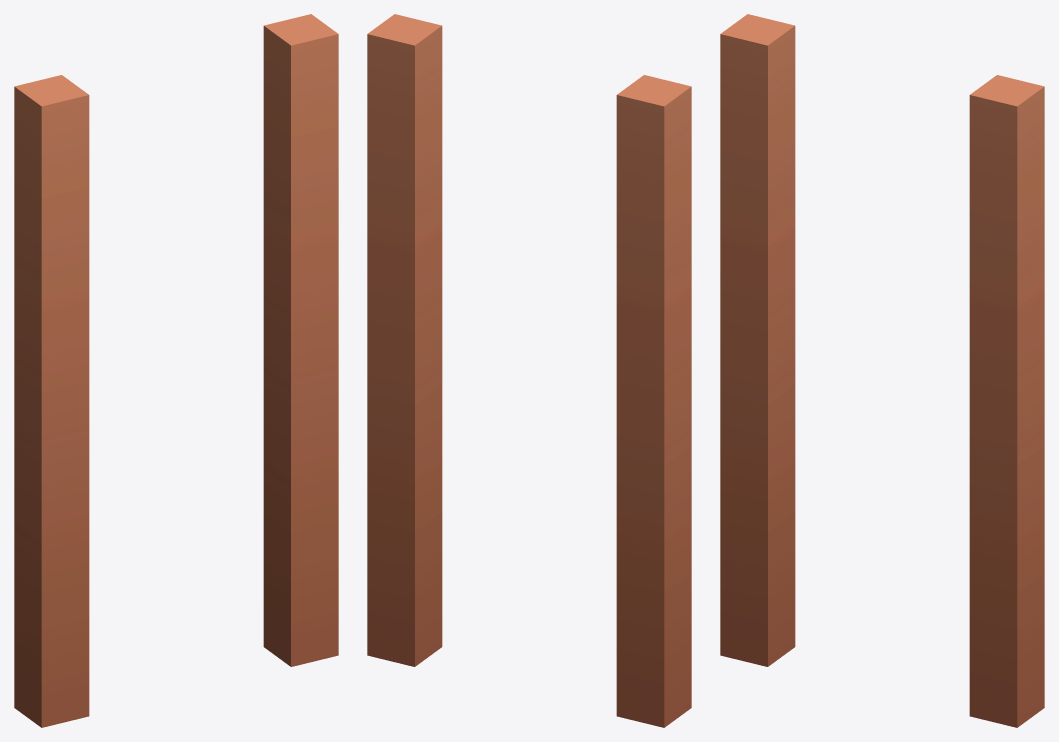
The model's file is window-brown-round-middle.glb.
3 renders of one model, left to right at view 1: azimuth 30°, elevation 25°; view 2: azimuth 150°, elevation 25°; view 3: azimuth 330°, elevation 25°, orthographic.
Parts seen in each view (by area): view 1: window-brown-round-middle; view 2: window-brown-round-middle; view 3: window-brown-round-middle.
Part boxes in pixels (box(x1,y1,x2,y2)): window-brown-round-middle: box(14, 14, 338, 727); window-brown-round-middle: box(367, 14, 691, 727); window-brown-round-middle: box(720, 14, 1044, 727).
Bounding box in the file's own units: 0.3125 × 0.625 × 0.05.
Materials: 1 (1 with a texture image).
